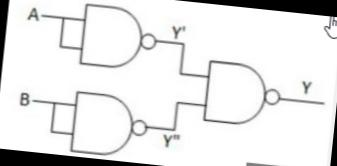nand: (198, 55, 286, 132), (71, 0, 161, 74), (66, 86, 152, 162)
